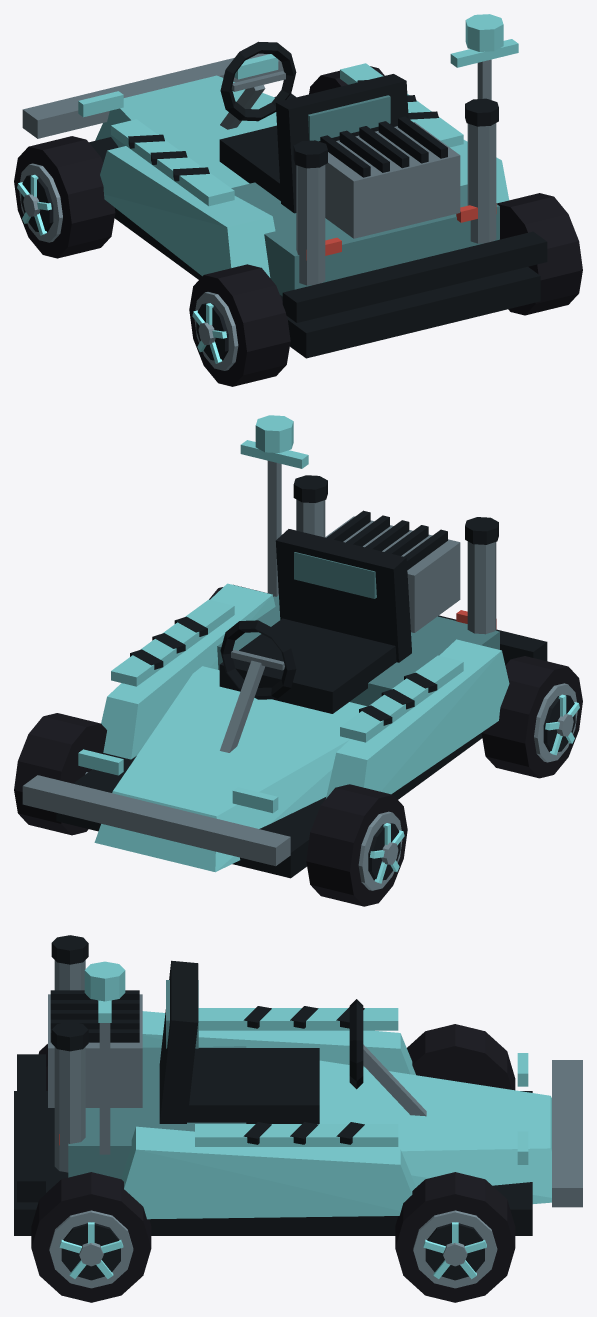
The model's file is kart.glb.
The picture shows the model from 3 angles, top to bottom: view 1: azimuth 30°, elevation 25°; view 2: azimuth 150°, elevation 25°; view 3: azimuth 270°, elevation 25°; orthographic projection. The views are drawn at different scales.
Parts seen in each view (by area): view 1: chassis, wheel-rear-left, wheel-front-left, wheel-rear-right, wheel-front-right; view 2: chassis, wheel-front-left, wheel-rear-left, wheel-front-right; view 3: chassis, wheel-front-right, wheel-rear-right, wheel-front-left.
Boxes of the visible parts, bbox=[...] form: chassis: bbox=[22, 14, 547, 358]; wheel-rear-left: bbox=[189, 264, 290, 386]; wheel-front-left: bbox=[14, 136, 115, 258]; wheel-rear-right: bbox=[496, 193, 582, 315]; wheel-front-right: bbox=[309, 66, 384, 94]; chassis: bbox=[22, 415, 547, 878]; wheel-front-left: bbox=[306, 784, 407, 906]; wheel-rear-left: bbox=[481, 656, 582, 778]; wheel-front-right: bbox=[14, 713, 111, 835]; chassis: bbox=[14, 935, 582, 1235]; wheel-front-right: bbox=[395, 1172, 515, 1302]; wheel-rear-right: bbox=[31, 1172, 151, 1302]; wheel-front-left: bbox=[407, 1024, 515, 1090].
Size of the model in its own units: 2.25 by 1.72 by 2.94.
